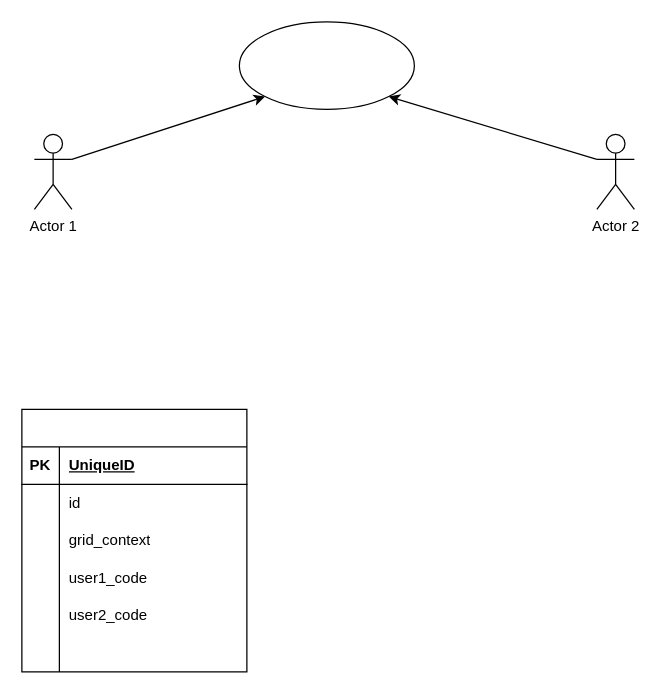
This 661x694 diagram has some shape labels left out. The shapes that lost their labels are listed below. From the top down, each one's box as (x1, y1, x2, y2) in pixels, then its label:
(238, 21, 414, 109): 点击
(21, 408, 247, 672): Table
